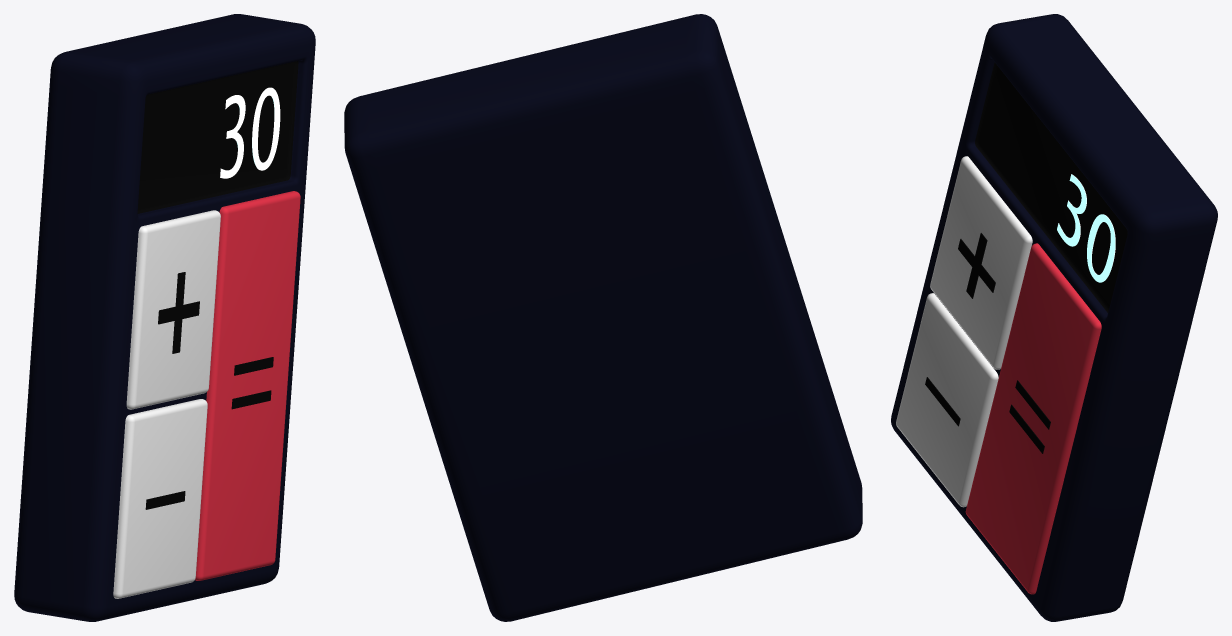
The model's file is calculator.glb.
3 views of the same model, side by side, from view 1: azimuth 30°, elevation 25°; view 2: azimuth 150°, elevation 25°; view 3: azimuth 270°, elevation 25° (orthographic). The views are drawn at different scales.
Visible parts, largest first — view 1: Cube.010; view 2: Cube.010; view 3: Cube.010.
Part boxes in pixels (bbox=[...]): Cube.010: bbox=[14, 14, 315, 621]; Cube.010: bbox=[344, 14, 862, 621]; Cube.010: bbox=[891, 14, 1217, 621].
Bounding box in the file's own units: 2.67 × 3.73 × 2.09.
